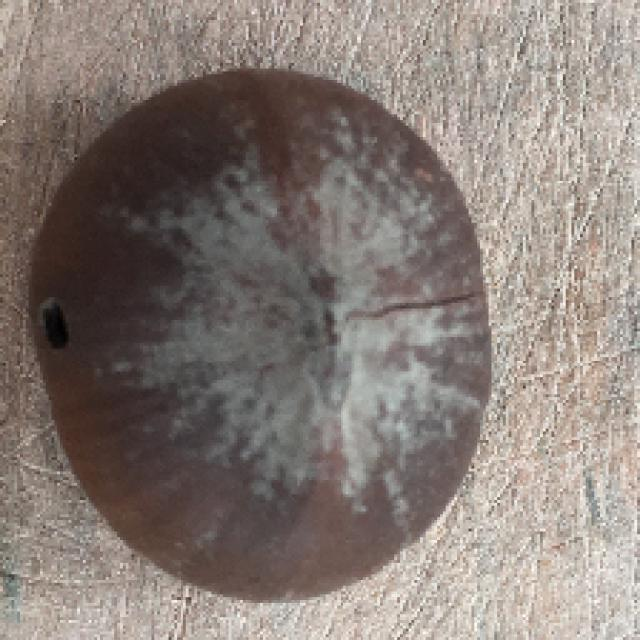damagedHazelnut: (25, 70, 495, 608)
